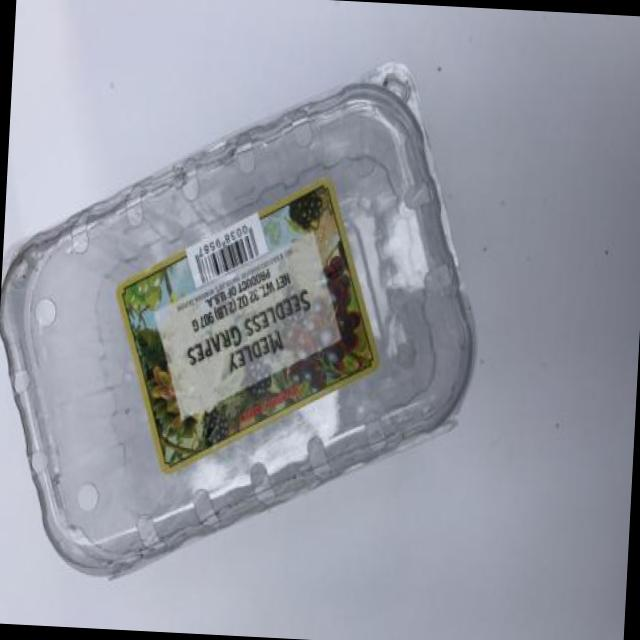Recycle: (0, 39, 491, 601)
